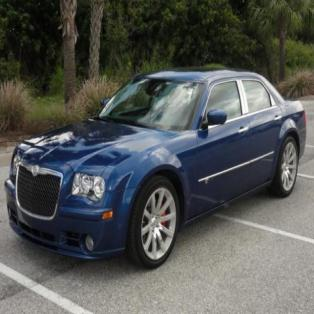Auto: (3, 69, 307, 272)
